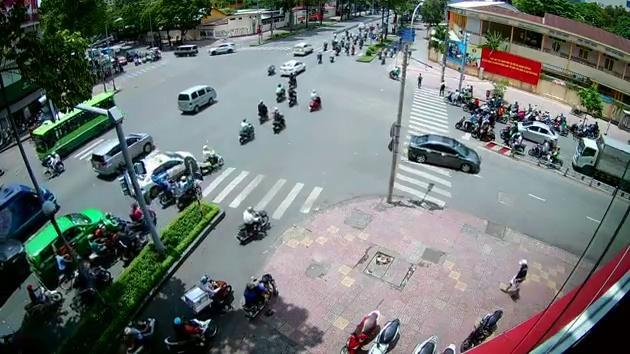xe buyt: (29, 92, 112, 161)
xe hoi: (23, 207, 104, 276), (135, 149, 195, 198), (408, 133, 480, 173), (91, 131, 152, 175), (517, 119, 559, 146), (279, 59, 305, 75)
xe may: (233, 204, 271, 245), (198, 274, 234, 306), (173, 174, 201, 207), (198, 143, 225, 175), (40, 150, 65, 180), (236, 117, 254, 146), (271, 106, 287, 135), (255, 98, 269, 123), (307, 88, 321, 112)
xe tai: (573, 131, 630, 182)
xe van: (177, 85, 216, 112)
